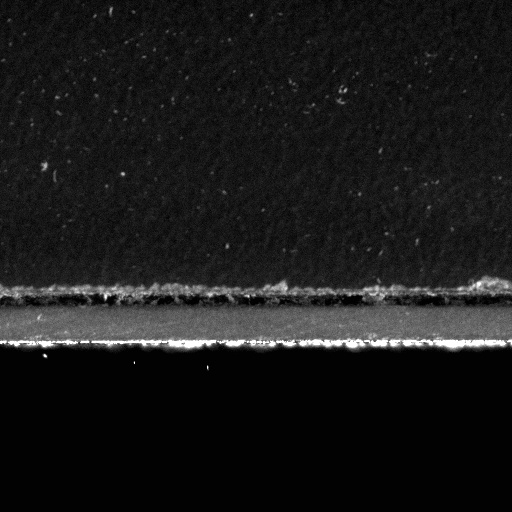jiaofeng: (0, 283, 511, 311)
